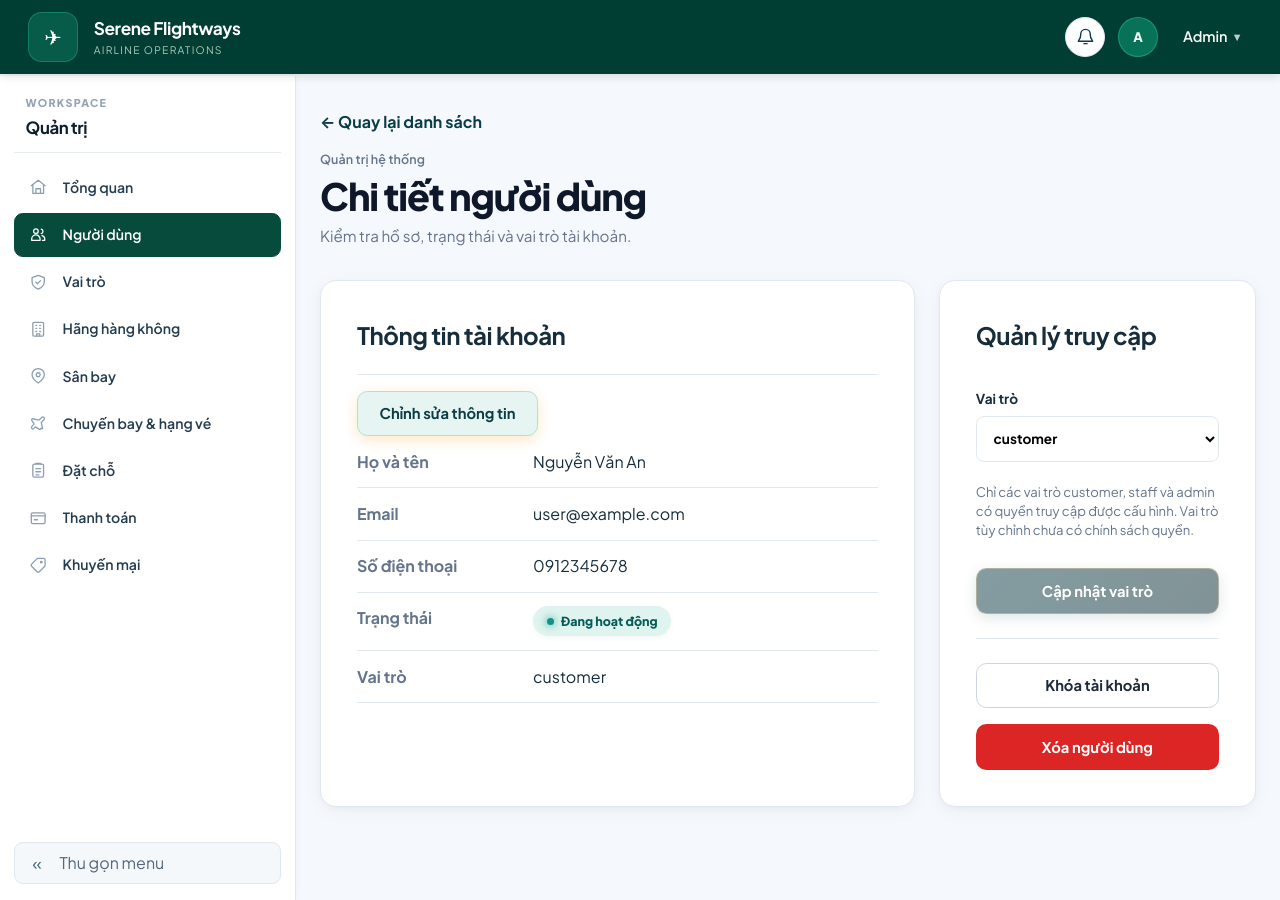
Test: admin user detail › allows an admin to edit only profile fields and refreshes the displayed details
Check: the text "user@example.com" is shown, box [533, 503, 685, 524]
Click the button "Chỉnh sửa thông tin": x=448, y=414 [357, 391, 538, 436]
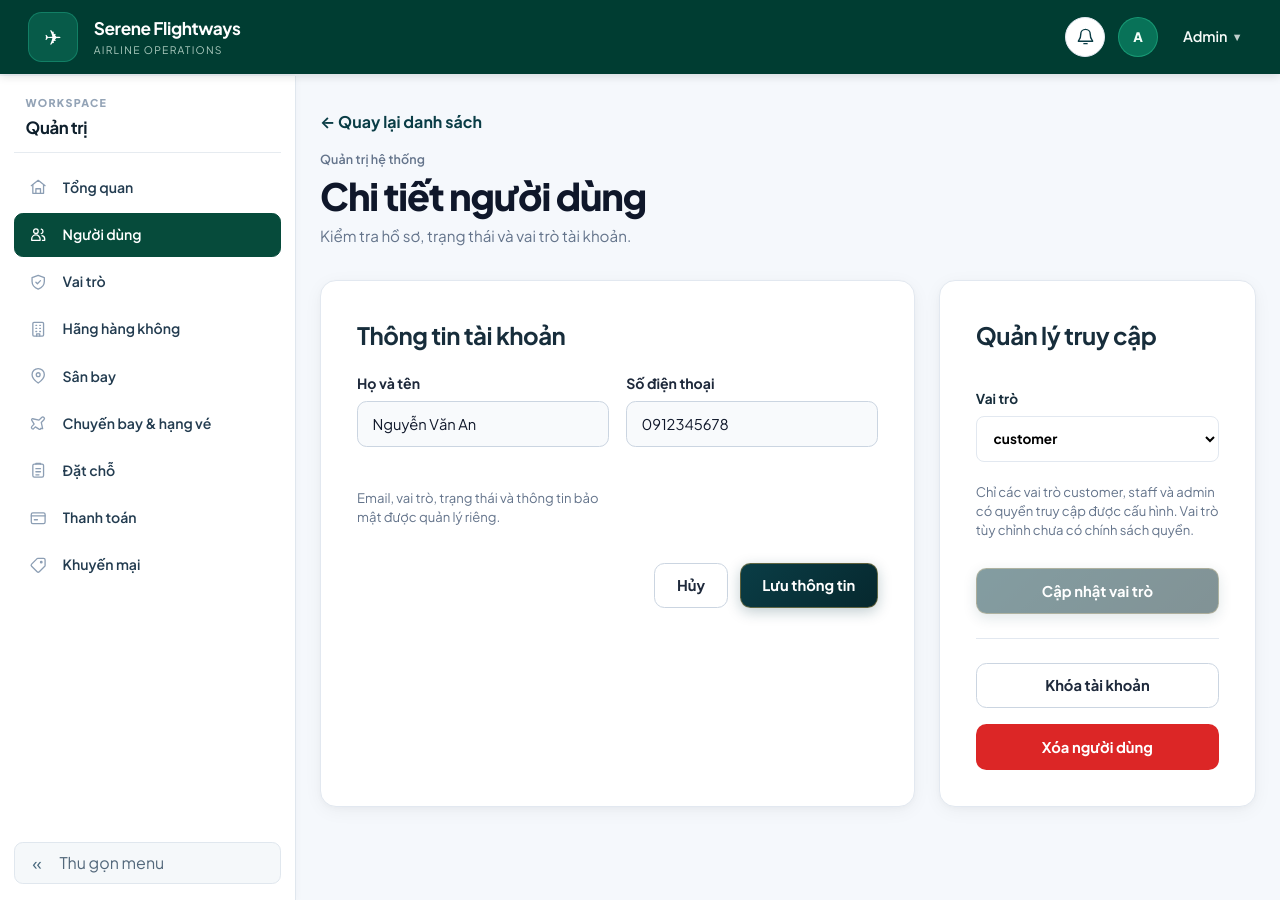
Check: the field labelled "Họ và tên" holds "Nguyễn Văn An"
Check: the field labelled "Số điện thoại" holds "0912345678", box [626, 401, 878, 447]
Clear the field labelled "Họ và tên": x=483, y=424 [357, 401, 609, 447]
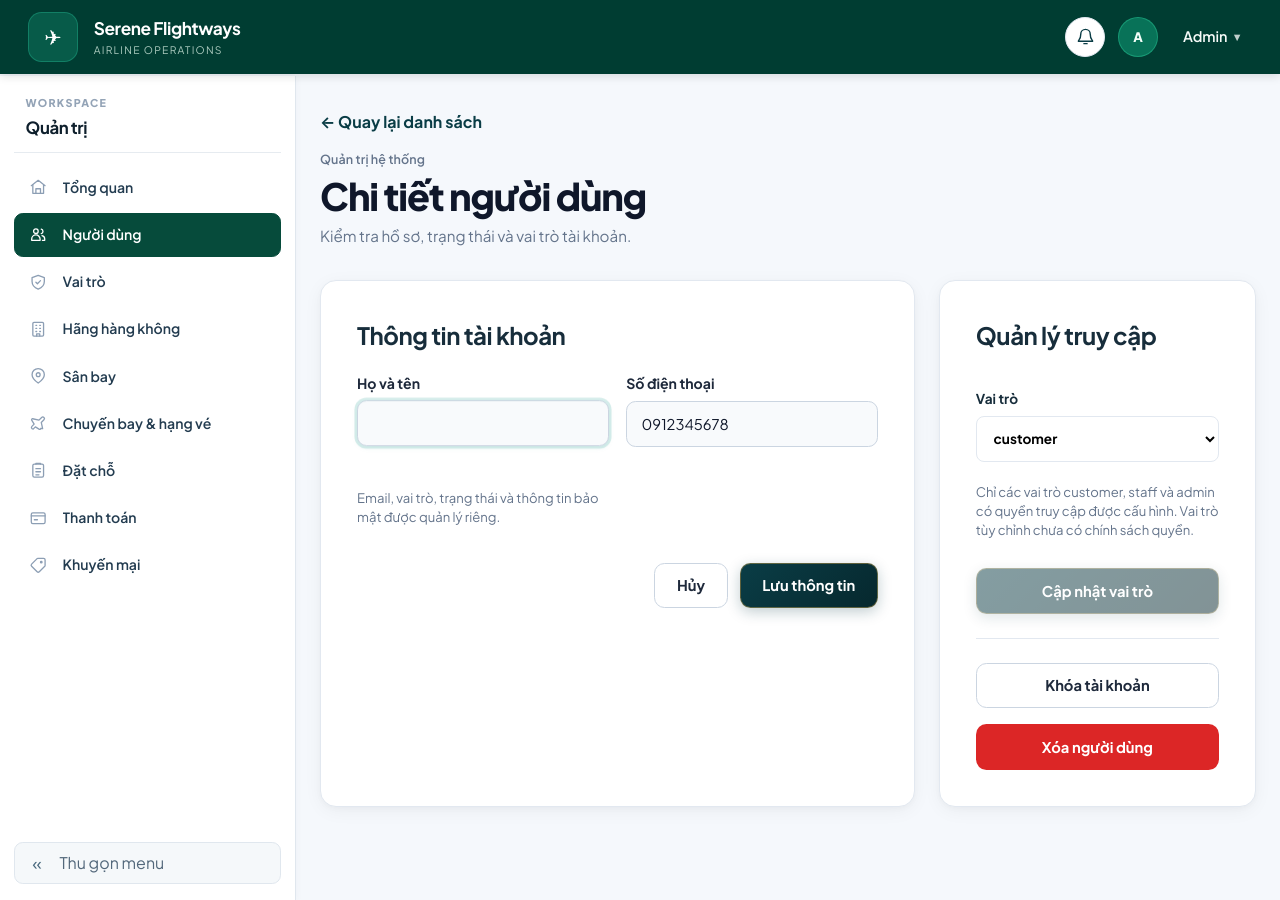
In the field labelled "Họ và tên": x=483, y=423 [357, 400, 609, 446], type "Nguyễn Minh Anh"
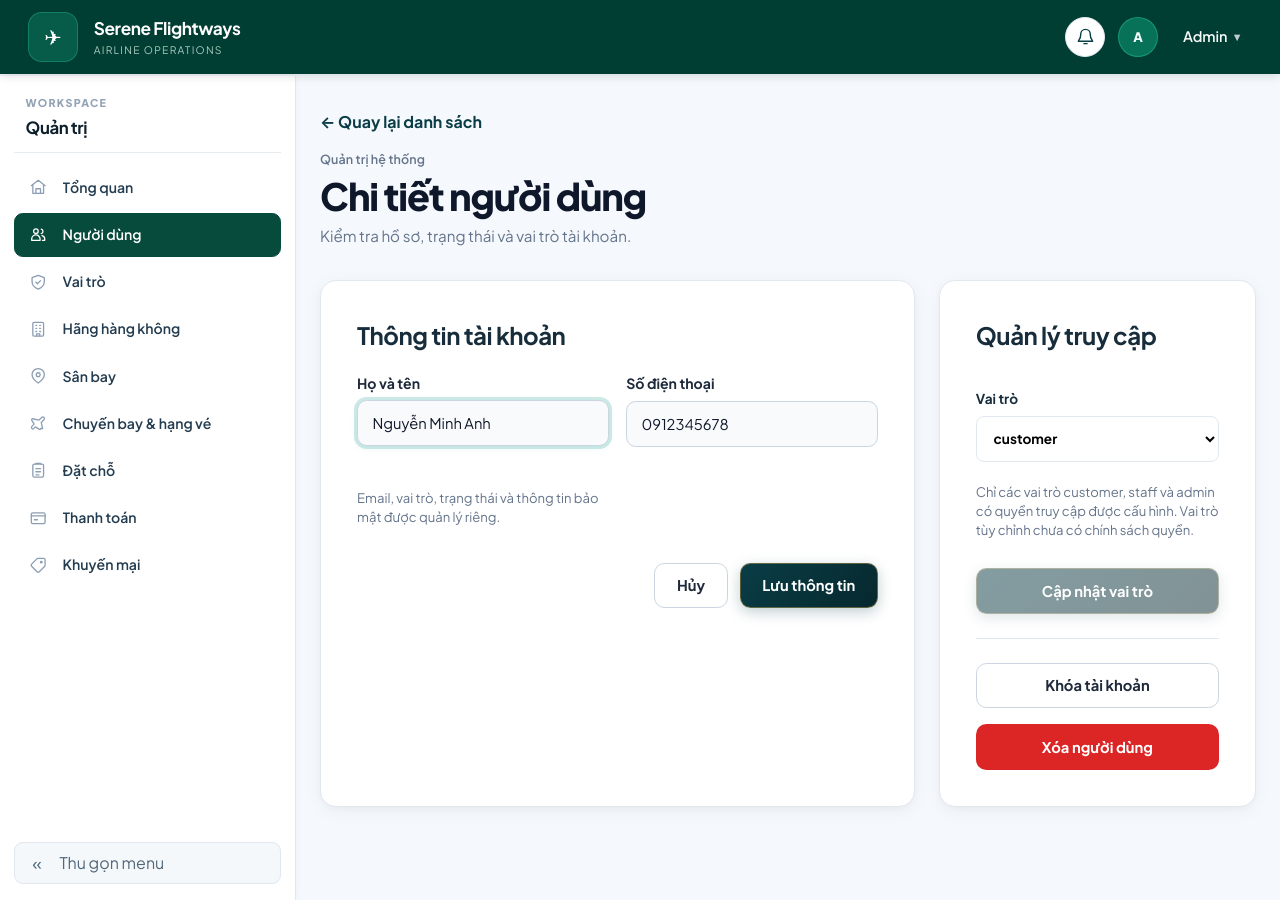
Click the button "Lưu thông tin": x=809, y=585 [740, 563, 878, 608]
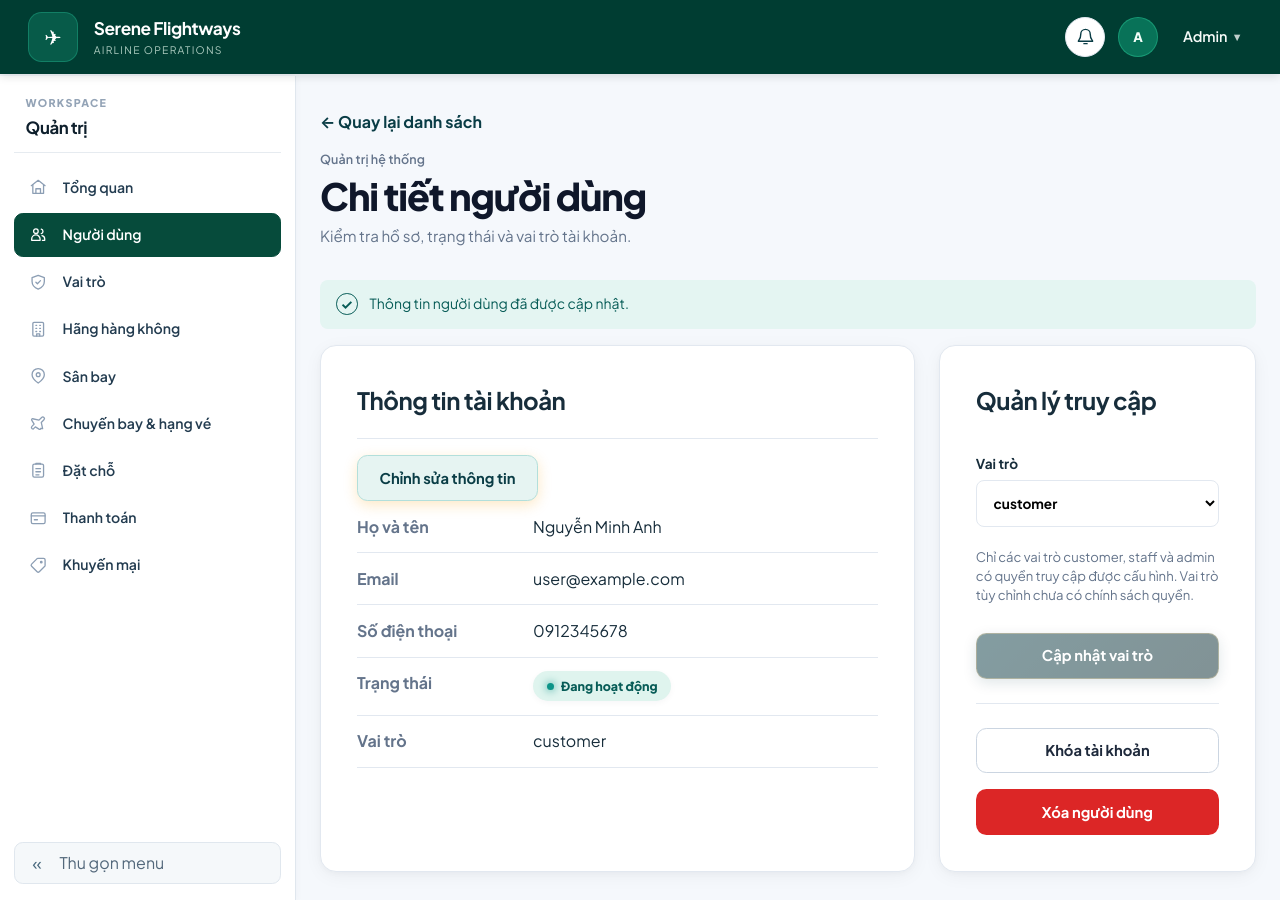
Check: the text "Thông tin người dùng đã được cập nhật." is shown, box [370, 294, 629, 314]
Check: the text "Nguyễn Minh Anh" is shown, box [533, 516, 662, 537]
